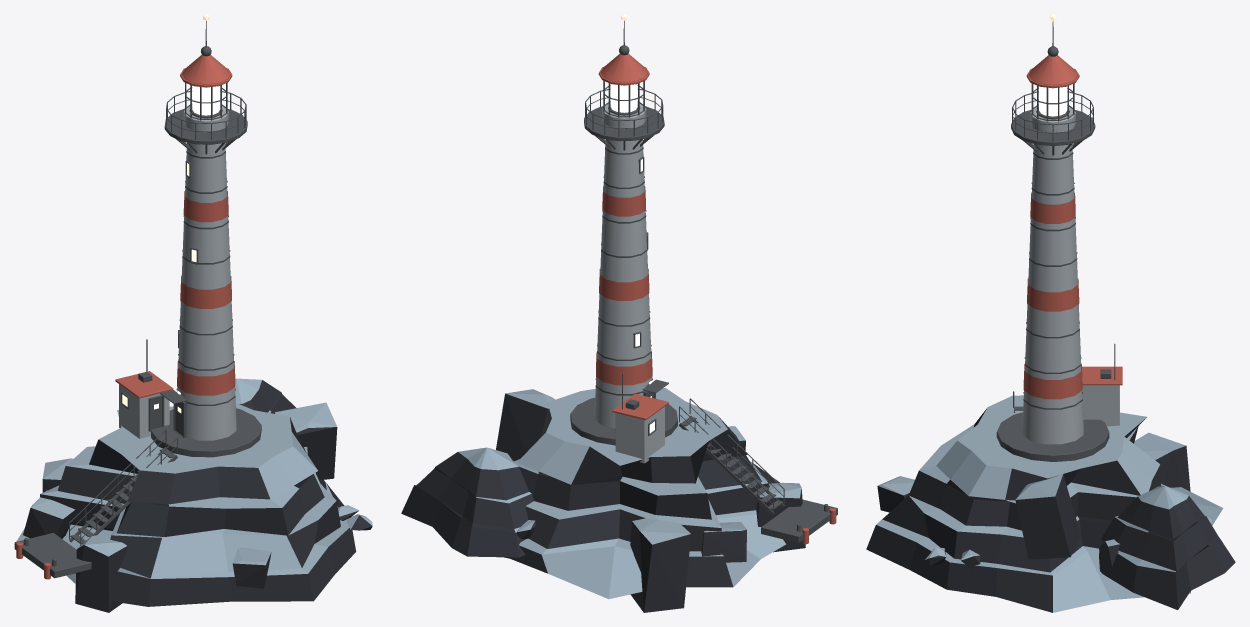
File: beacon.glb
The picture shows the model from 3 angles, left to right: view 1: azimuth 30°, elevation 25°; view 2: azimuth 150°, elevation 25°; view 3: azimuth 270°, elevation 25°; orthographic projection. The views are drawn at different scales.
Visible parts, largest first — view 1: beacon; view 2: beacon; view 3: beacon.
Part boxes in pixels (x1,y1,x2,y2): beacon: (14, 14, 372, 612); beacon: (401, 14, 837, 612); beacon: (866, 14, 1235, 612).
Bounding box in the file's own units: 23.64 × 34.54 × 20.99.
